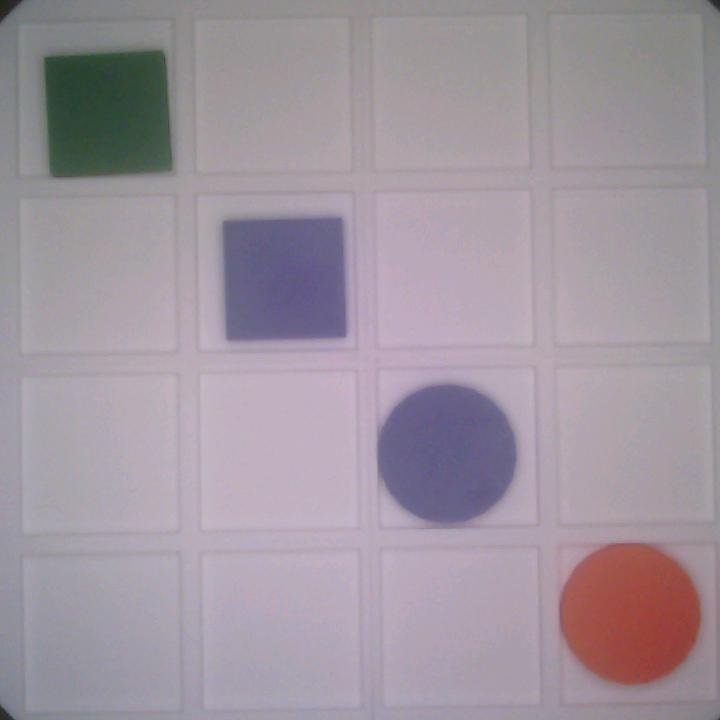Blue circle: (375, 382, 518, 528)
Blue square: (218, 209, 349, 343)
Green square: (35, 43, 168, 179)
Orange circle: (560, 541, 699, 695)
